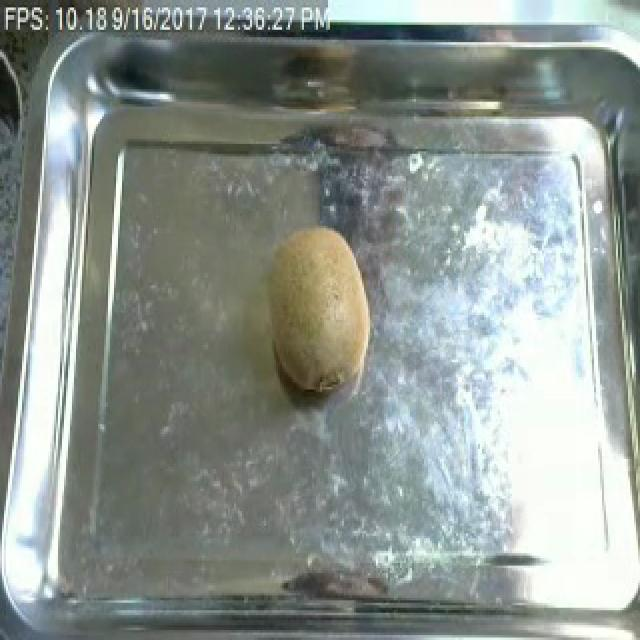Fruit: (256, 211, 382, 399)
